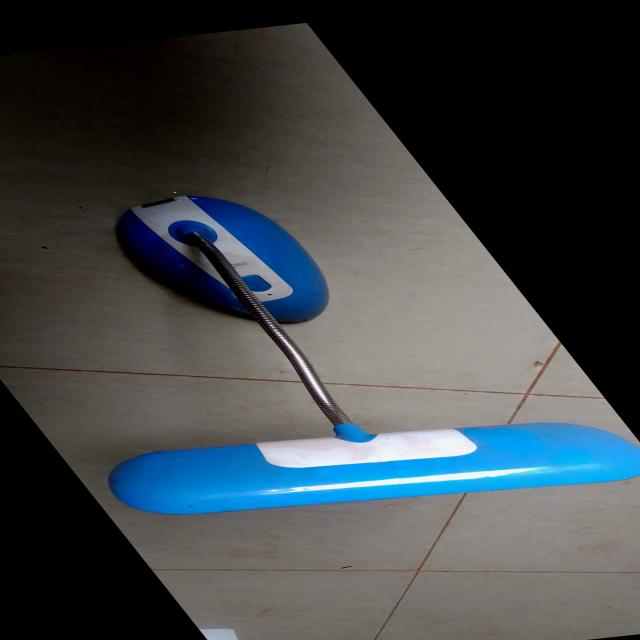Lantern: (0, 165, 640, 540)
